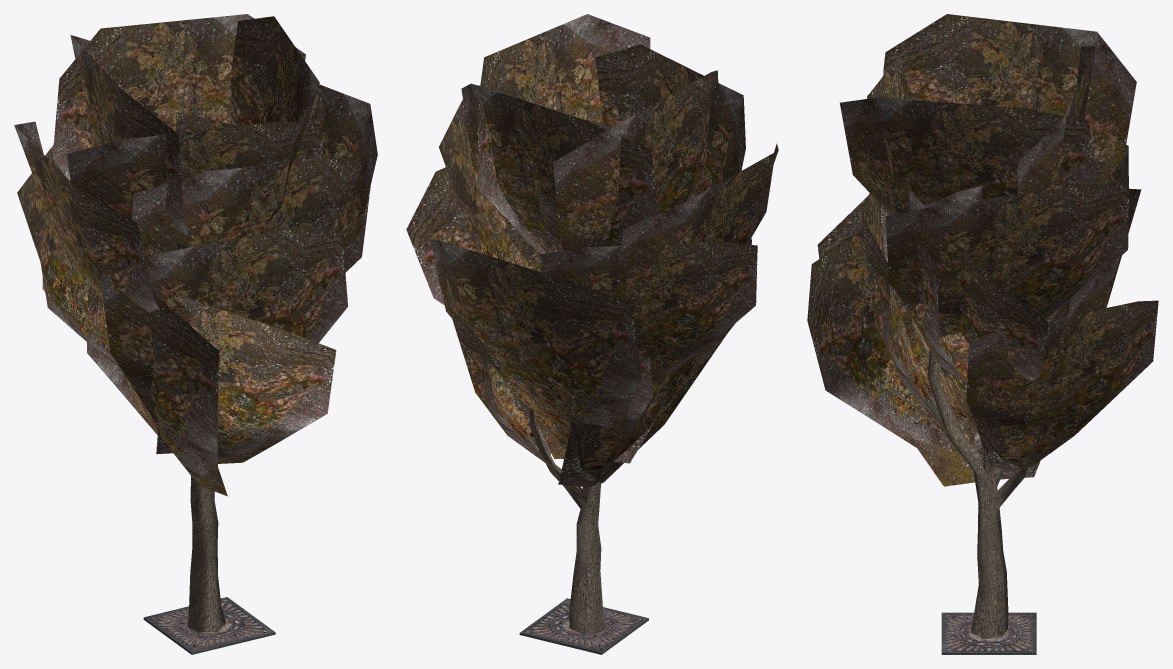
The model's file is tree_decid_large_base_leaf.fbx.
The picture shows the model from 3 angles, left to right: view 1: azimuth 30°, elevation 25°; view 2: azimuth 150°, elevation 25°; view 3: azimuth 270°, elevation 25°; orthographic projection. The views are drawn at different scales.
Parts seen in each view (by area): view 1: mesh_1, mesh_0, mesh_2; view 2: mesh_1, mesh_0, mesh_2; view 3: mesh_1, mesh_0, mesh_2.
Boxes of the visible parts, left/top/right/bottom form: mesh_1: left=14, top=14, right=377, bottom=496; mesh_0: left=188, top=476, right=225, bottom=632; mesh_2: left=143, top=597, right=275, bottom=654; mesh_1: left=406, top=14, right=778, bottom=487; mesh_0: left=529, top=408, right=604, bottom=634; mesh_2: left=519, top=598, right=648, bottom=654; mesh_1: left=807, top=14, right=1158, bottom=486; mesh_0: left=927, top=350, right=1028, bottom=639; mesh_2: left=941, top=612, right=1036, bottom=654.
Bounding box in the file's own units: 780 × 1320 × 739.
Materials: 3 (3 with a texture image).
